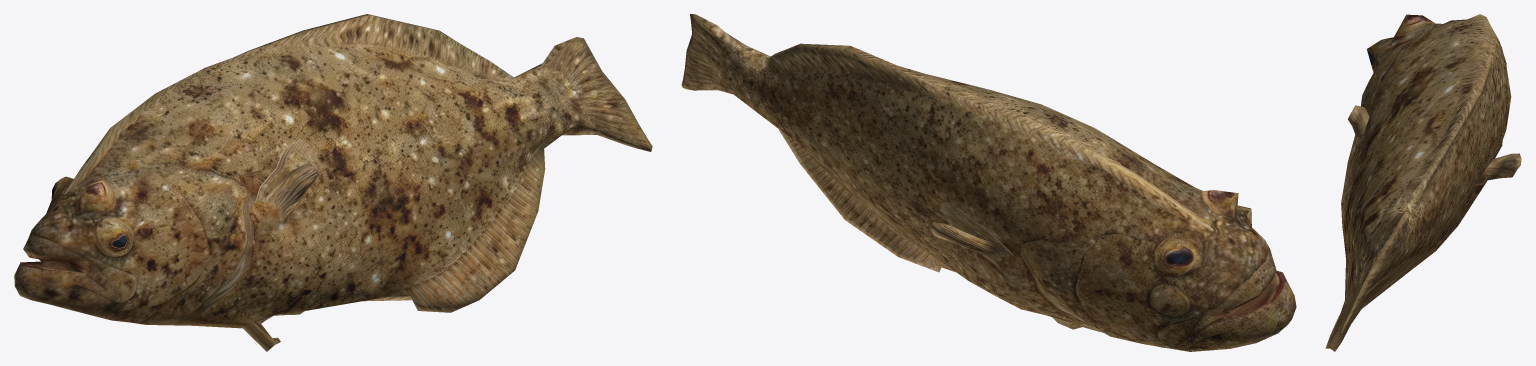
File: gwangeo.glb
3 views of the same model, side by side, from view 1: azimuth 30°, elevation 25°; view 2: azimuth 150°, elevation 25°; view 3: azimuth 270°, elevation 25° (orthographic). The views are drawn at different scales.
Visible parts, largest first — view 1: tripo_node_64abb38a; view 2: tripo_node_64abb38a; view 3: tripo_node_64abb38a.
Part boxes in pixels (x1,y1,x2,y2): tripo_node_64abb38a: [14, 14, 652, 351]; tripo_node_64abb38a: [681, 14, 1296, 351]; tripo_node_64abb38a: [1325, 14, 1521, 351].
Bounding box in the file's own units: 97.57 × 40.81 × 27.76.
Materials: 1 (1 with a texture image).
